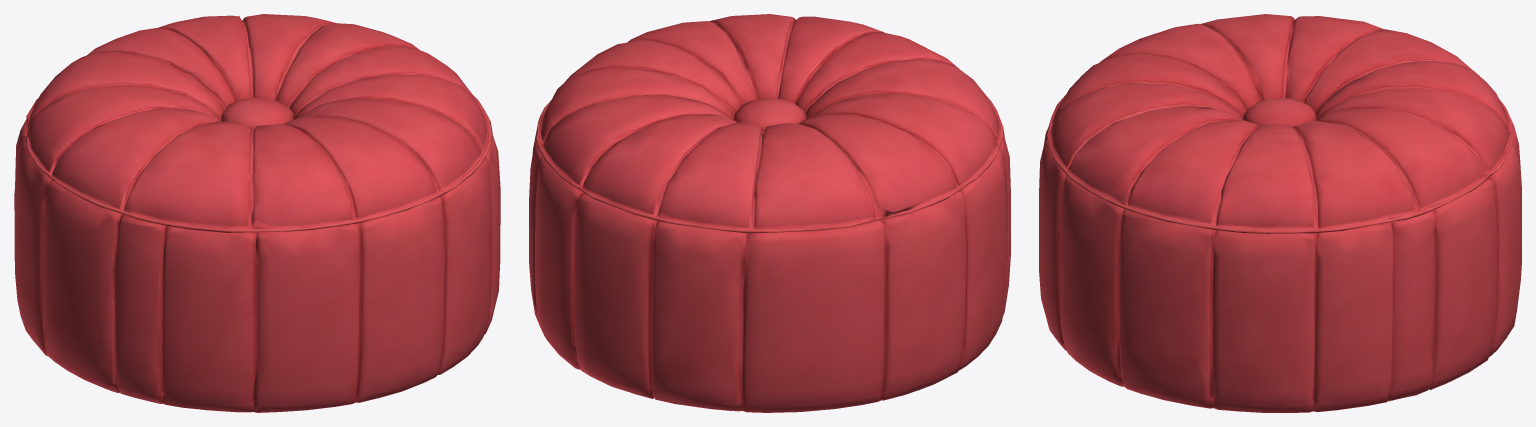
The model's file is pouf_capitonne_rond_rose.glb.
The picture shows the model from 3 angles, left to right: view 1: azimuth 30°, elevation 25°; view 2: azimuth 150°, elevation 25°; view 3: azimuth 270°, elevation 25°; orthographic projection.
Parts seen in each view (by area): view 1: tripo_node_472573ef-883d-44a9-9f34-bb391045c386; view 2: tripo_node_472573ef-883d-44a9-9f34-bb391045c386; view 3: tripo_node_472573ef-883d-44a9-9f34-bb391045c386.
Boxes of the visible parts, box(x1,y1,x2,y2) form: tripo_node_472573ef-883d-44a9-9f34-bb391045c386: box(14, 14, 500, 412); tripo_node_472573ef-883d-44a9-9f34-bb391045c386: box(529, 14, 1010, 412); tripo_node_472573ef-883d-44a9-9f34-bb391045c386: box(1039, 14, 1521, 412).
Bounding box in the file's own units: 0.998 × 0.5293 × 0.998.
1 material, 1 textured.
